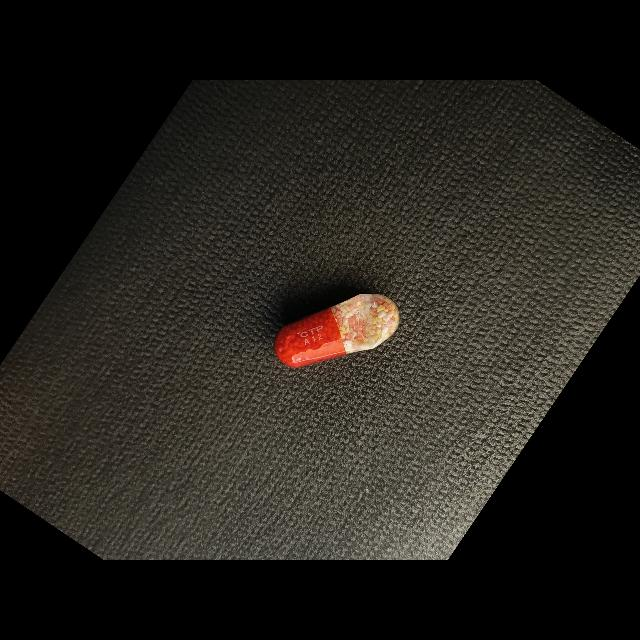Defective Capsule: (275, 294, 399, 367)
